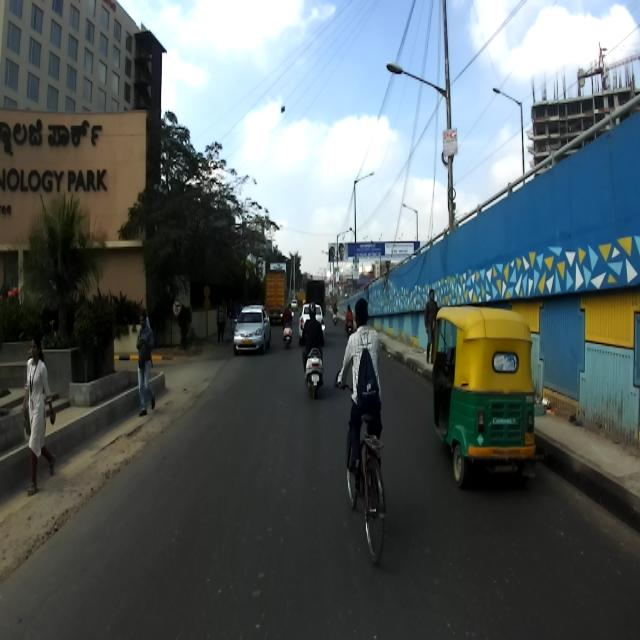auto ahead at: (428, 296, 541, 504)
bicycle ahead at: (344, 416, 391, 570)
car ahead at: (232, 292, 272, 355)
motorcycle ahead at: (300, 349, 332, 401)
person ahead at: (19, 333, 58, 494), (132, 310, 156, 420)
